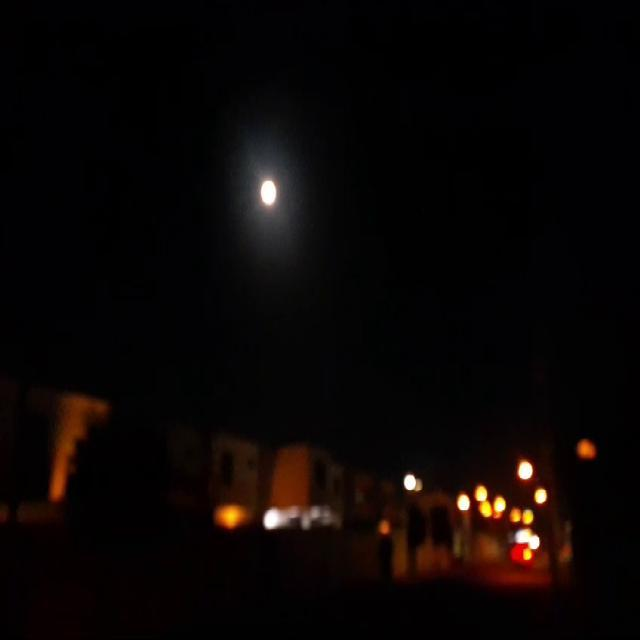moon: (254, 176, 274, 210)
